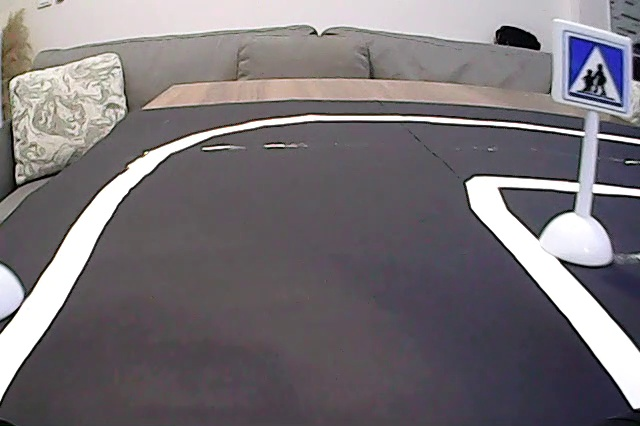school crossing: (560, 28, 629, 113)
